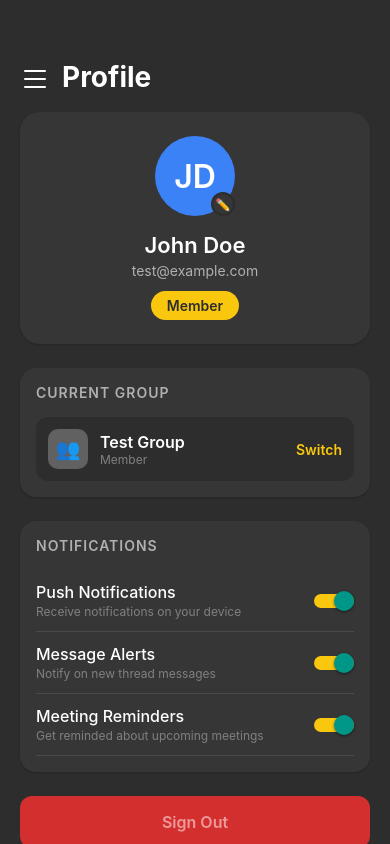
ProfileScreen › should open group picker when Switch is pressed
Check: the text "Switch Group" is not shown
Click the text "Switch": click(319, 449) 296,440 -> 342,458
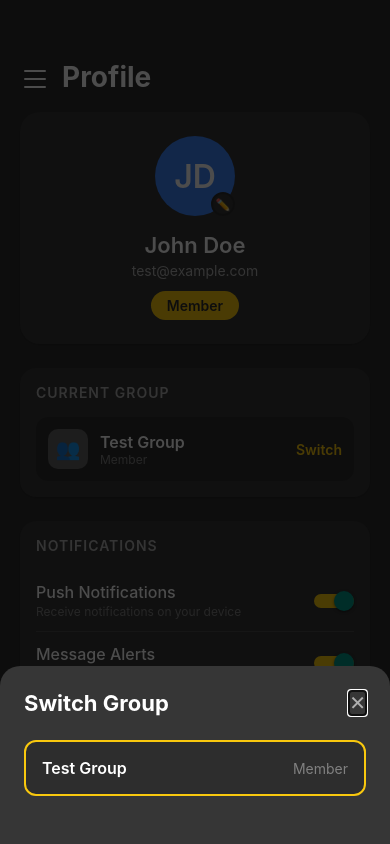
Check: the text "Switch Group" is shown, box 24,690 -> 169,716
